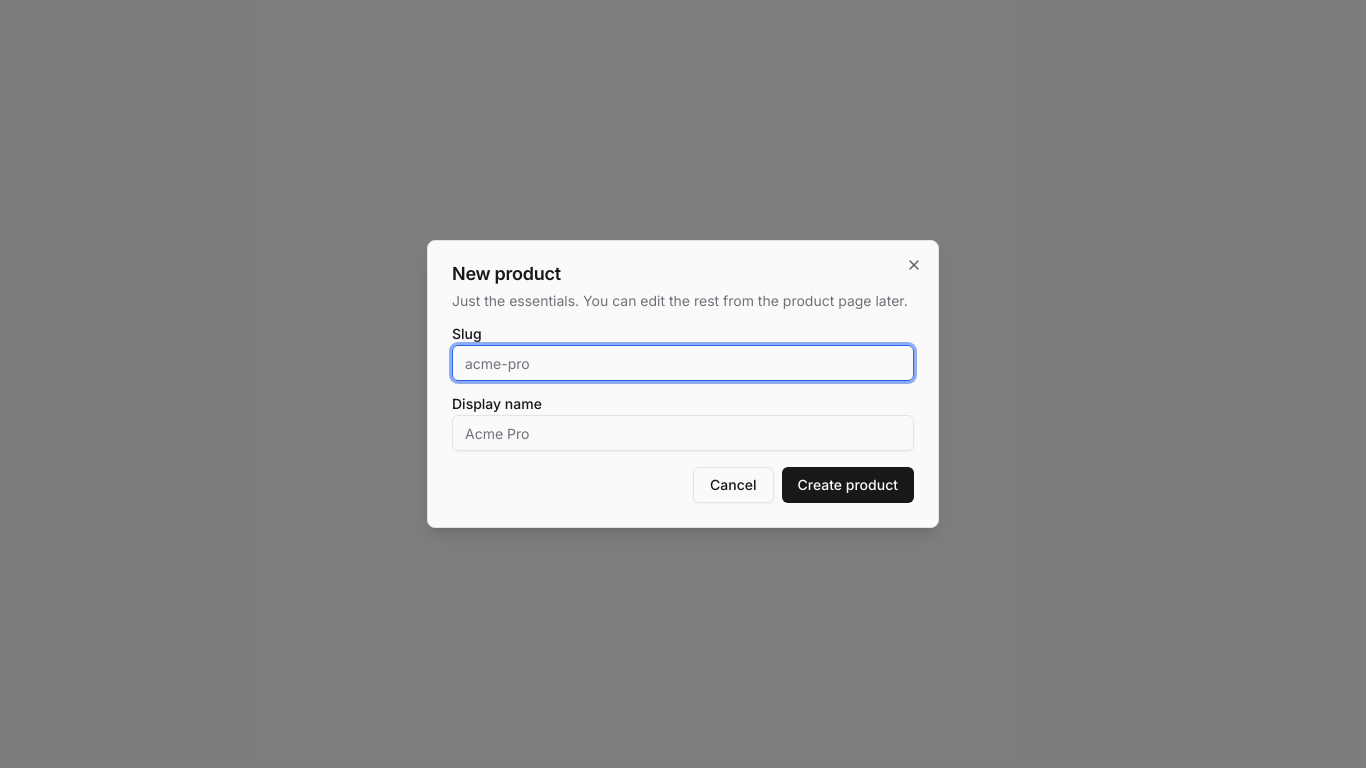
Test: QuickCreateProductDialog › shows the API detail message when the create fails
Type "acme" into the field labelled "Slug" at [683, 363], box [452,345,914,381]
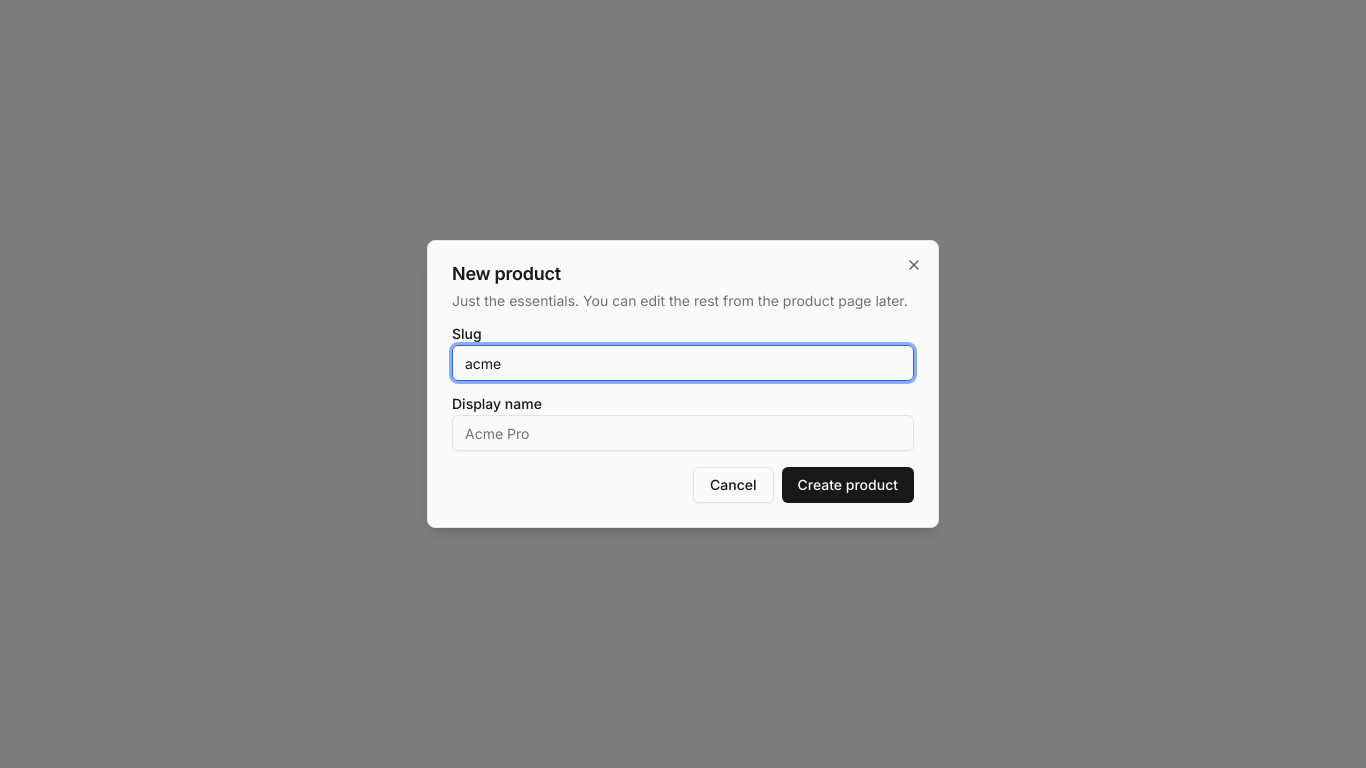
Type "Acme" into the field labelled "Display name" at [683, 433], box [452,415,914,451]
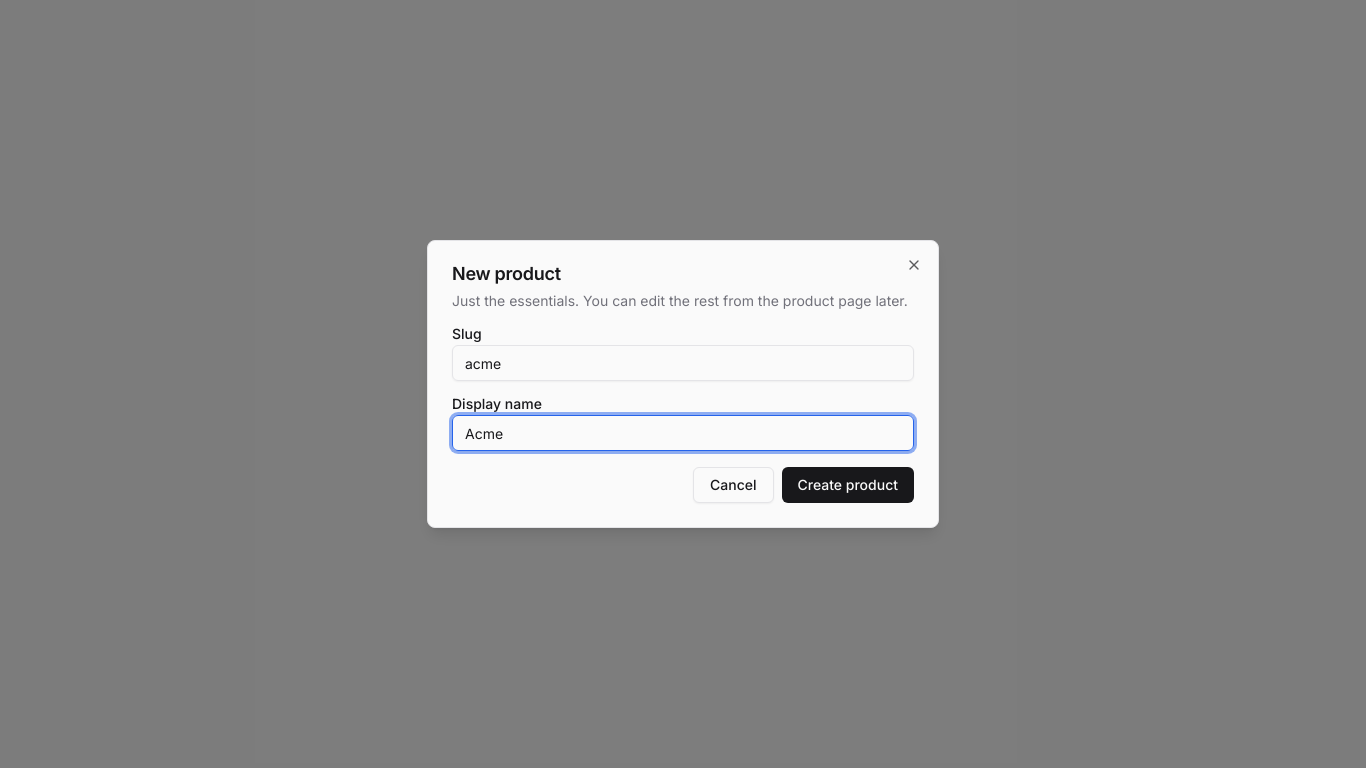
Click the button "Create product" at [848, 485], box [782,467,914,503]
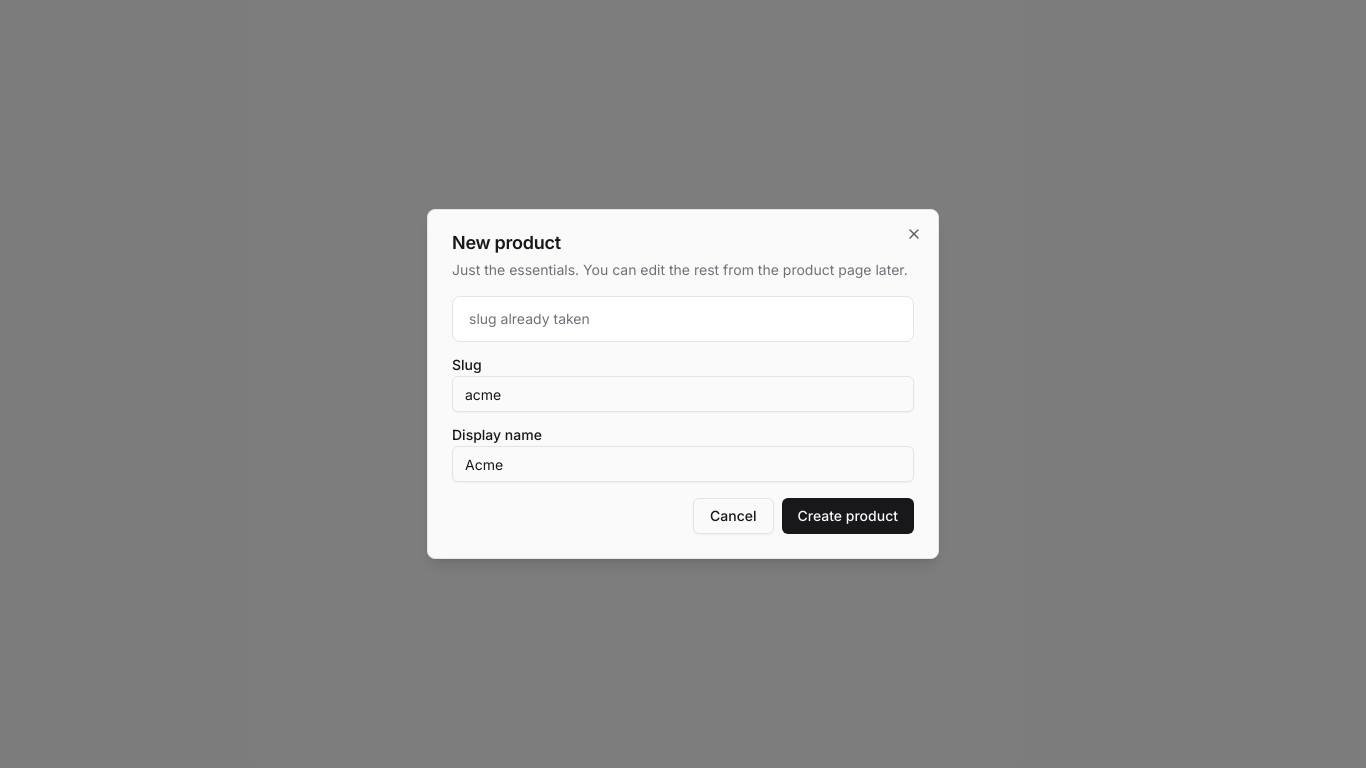
Check: the text "slug already taken" is shown, box [469,310,590,327]
